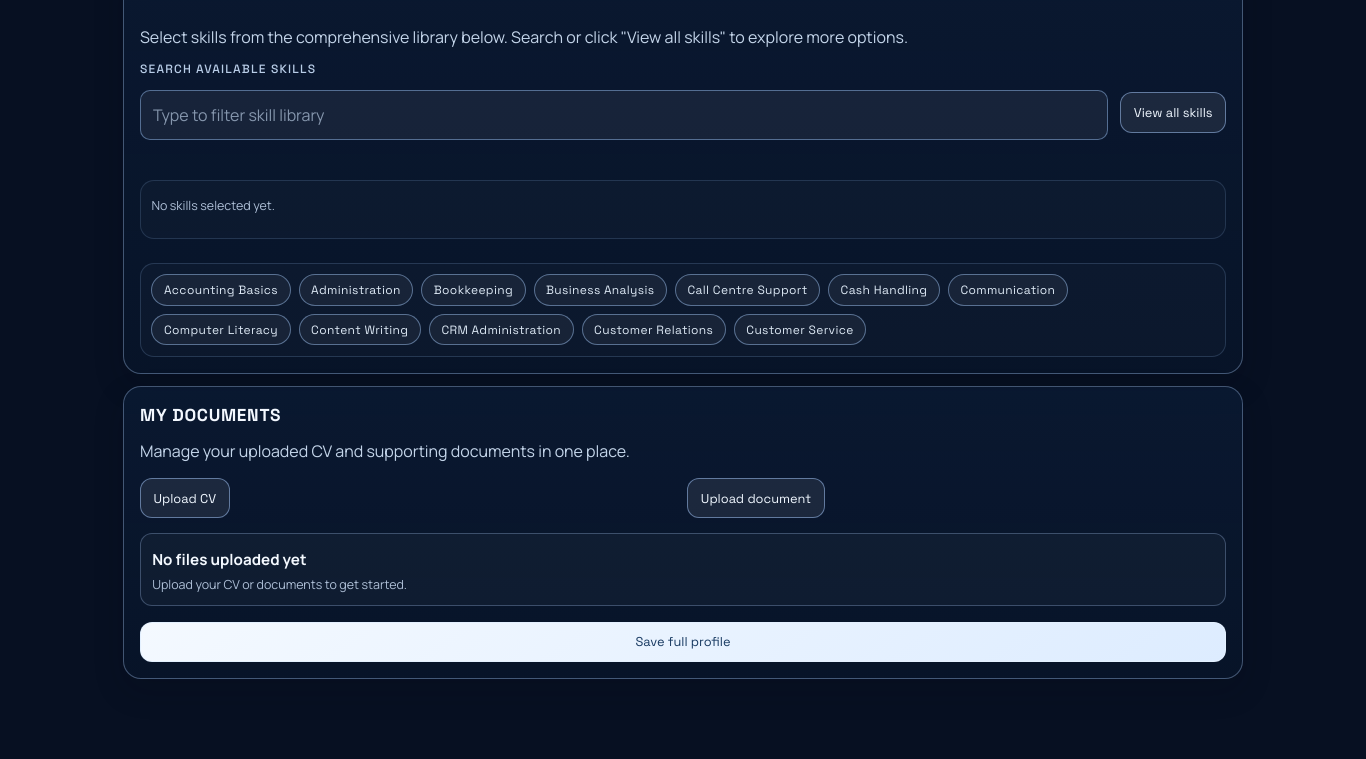
Scenario: ApplicantProfile coverage › unauthenticated users cannot start CV upload
(page scrolled)
Click the button "Upload document": (756, 498) [687, 478, 825, 518]
(page scrolled)
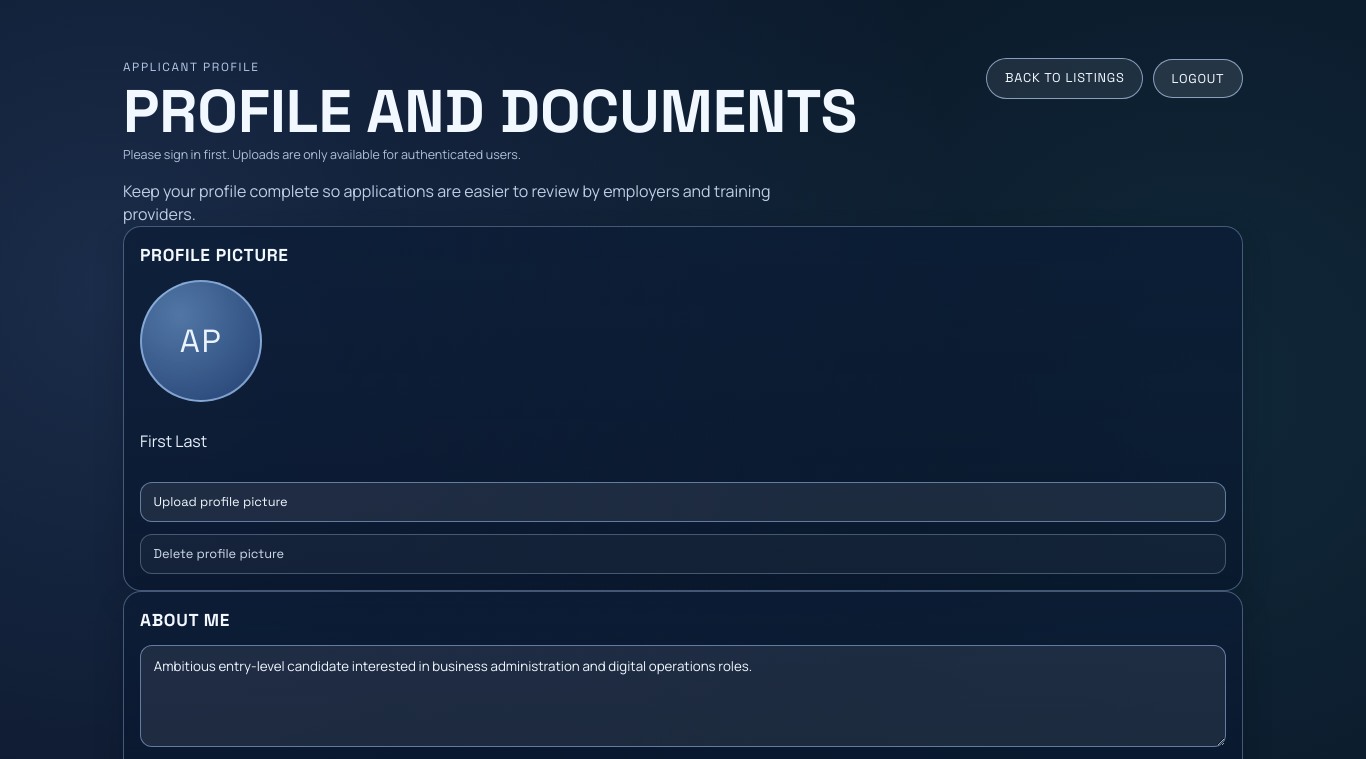
Check: the text "Please sign in first. Uploads are only available for authenticated users." is shown, box [123, 146, 521, 163]
